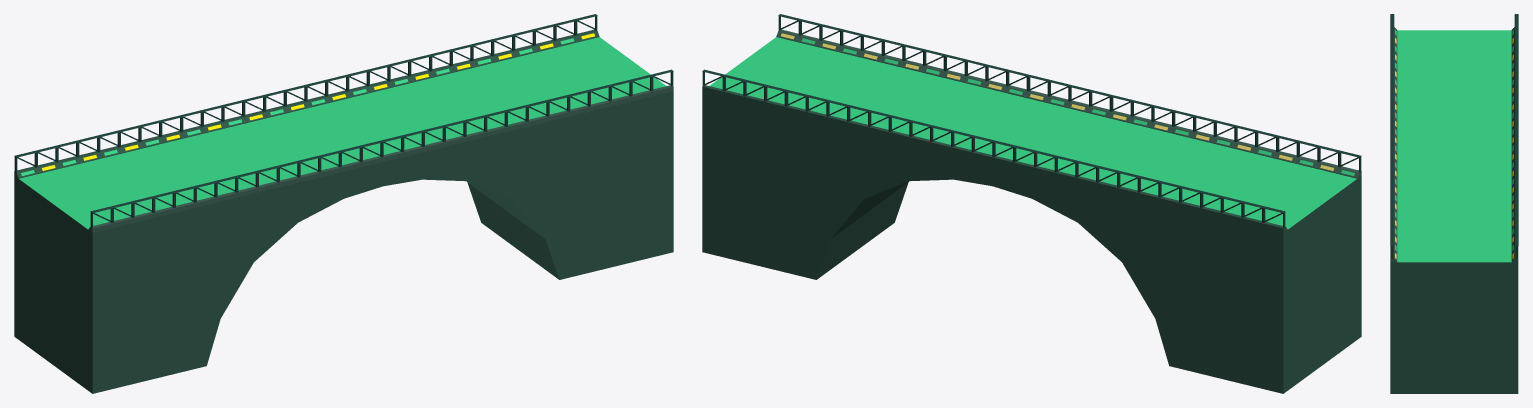
File: Pont_barrière_couleur.fbx
3 renders of one model, left to right at view 1: azimuth 30°, elevation 25°; view 2: azimuth 150°, elevation 25°; view 3: azimuth 270°, elevation 25°, orthographic. The views are drawn at different scales.
Visible parts, largest first — view 1: Cube, Cube.003, Cube.004, Cube.001, Cube.002; view 2: Cube, Cube.002, Cube.001, Cube.004, Cube.003; view 3: Cube, Cube.001, Cube.004, Cube.002, Cube.003.
Part boxes in pixels (<box>): Cube: <box>14,37,673,393</box>; Cube.003: <box>14,29,599,178</box>; Cube.004: <box>14,14,597,172</box>; Cube.001: <box>90,69,673,227</box>; Cube.002: <box>88,85,673,232</box>; Cube: <box>702,37,1361,393</box>; Cube.002: <box>776,29,1361,178</box>; Cube.001: <box>778,14,1361,172</box>; Cube.004: <box>702,69,1285,227</box>; Cube.003: <box>702,85,1287,232</box>; Cube: <box>1390,30,1518,393</box>; Cube.001: <box>1390,14,1394,258</box>; Cube.004: <box>1514,14,1518,258</box>; Cube.002: <box>1390,27,1397,262</box>; Cube.003: <box>1511,27,1518,262</box>.
Bounding box in the file's own units: 3000 × 894 × 700.
